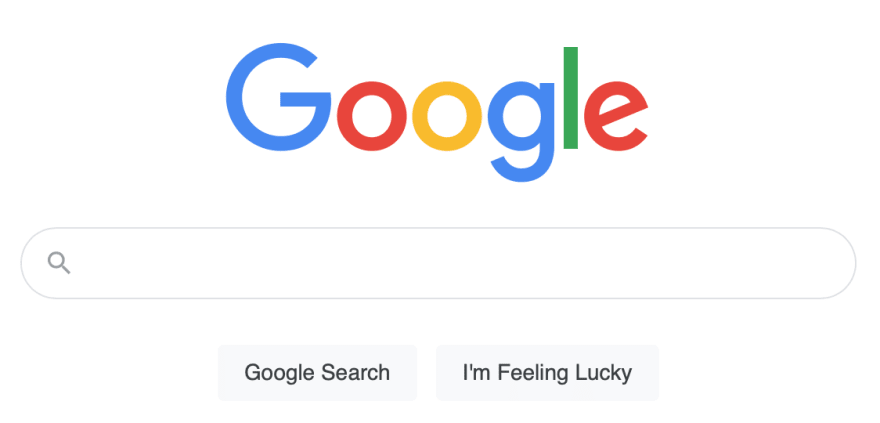search_box: (23, 226, 860, 302)
